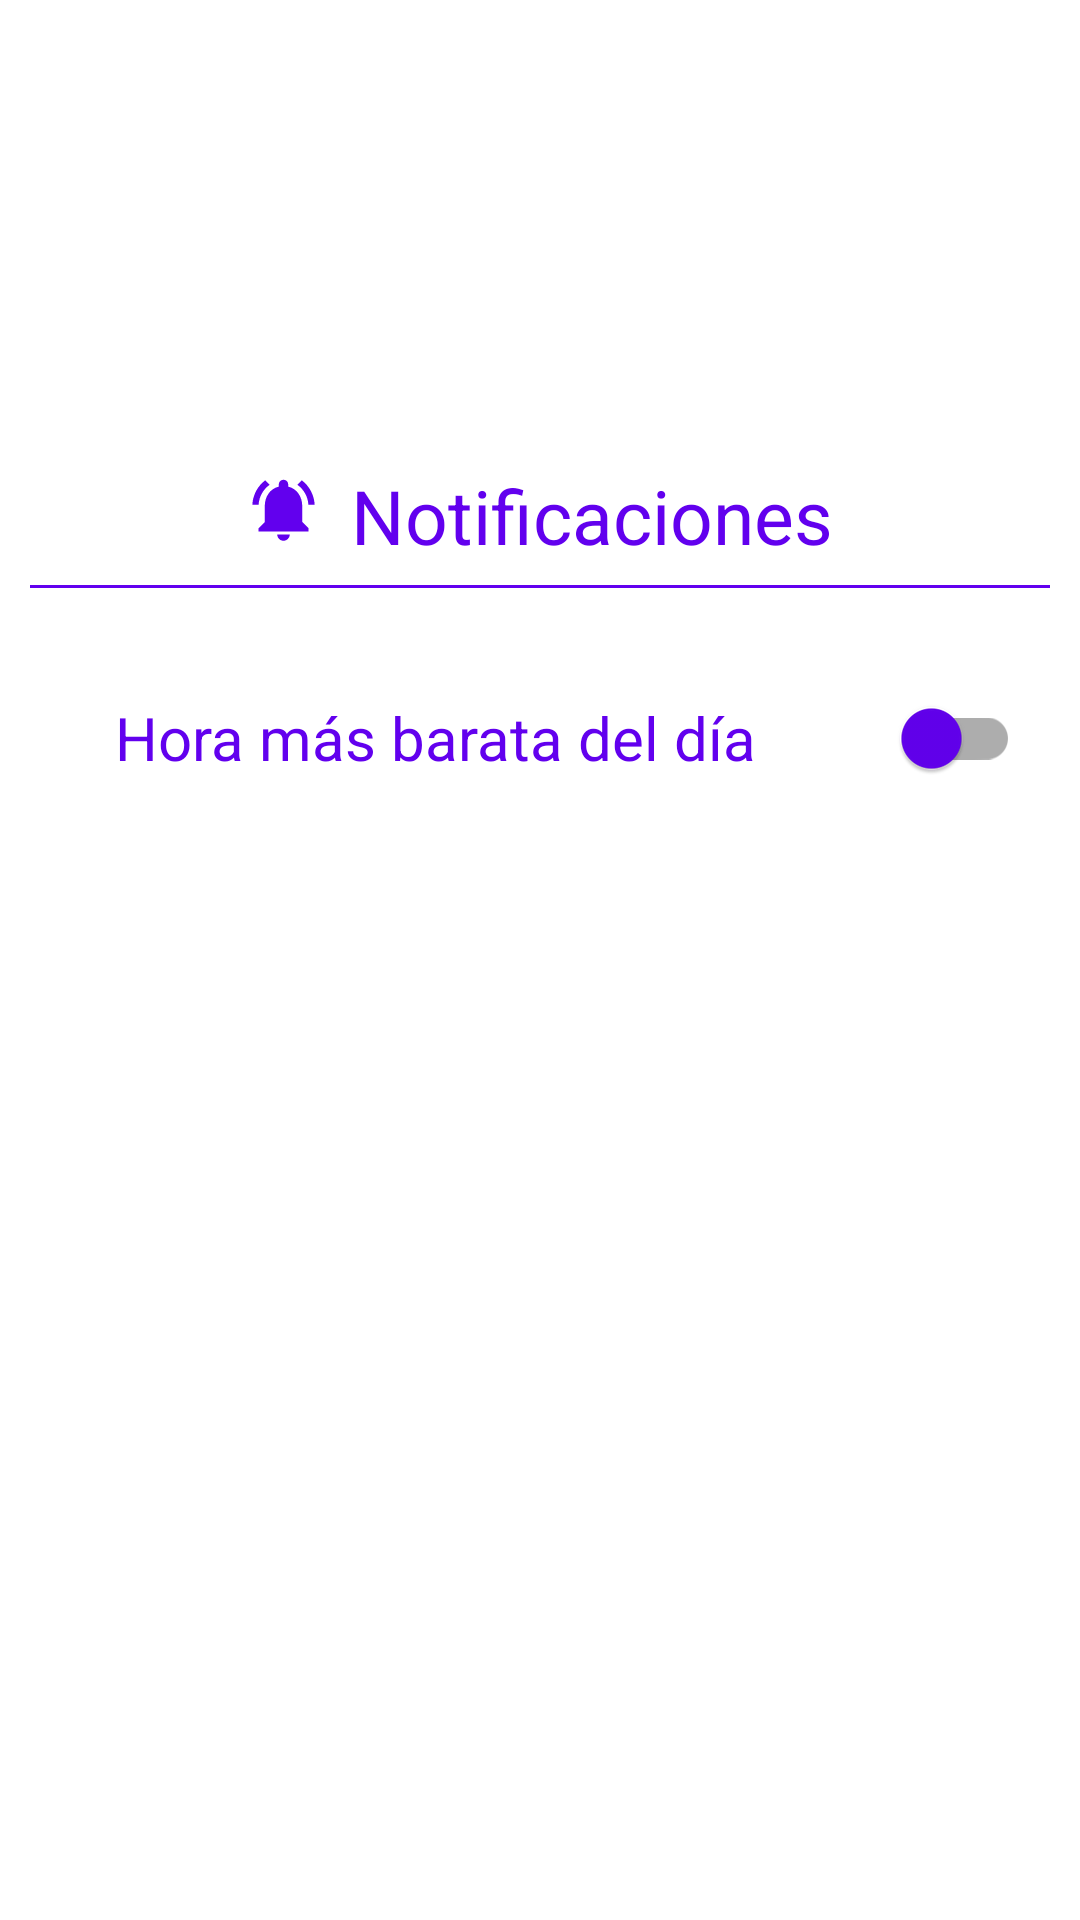

Icons on this 1080 × 1920 Android screen, each with its box as (x1, y1, x2, y2):
notifications: (252, 479, 315, 541)
